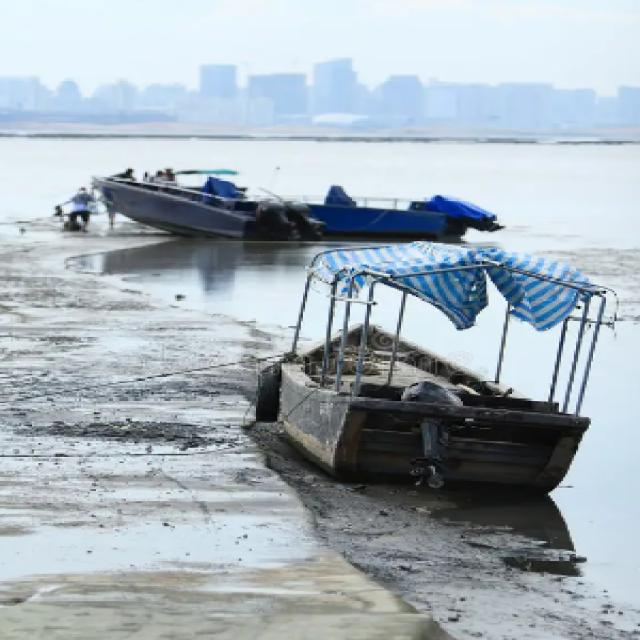fishing boat: (263, 234, 612, 491), (85, 152, 477, 242)
